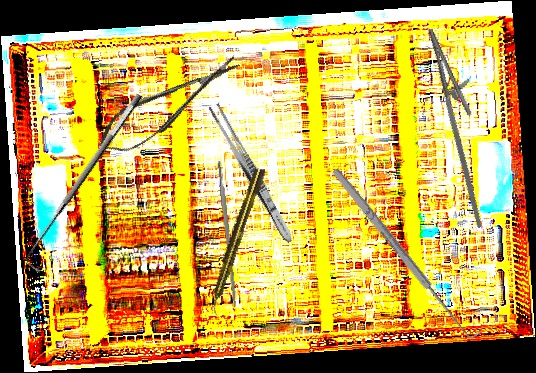Dressing Forceps: (205, 101, 298, 246)
Handpiece: (204, 164, 268, 317)
Hook Surgical: (329, 161, 483, 344), (17, 91, 156, 275)
Micro Scissor: (89, 47, 250, 163)
Needle Holder: (404, 22, 521, 229)
Scalpel Handle: (216, 160, 239, 308)
